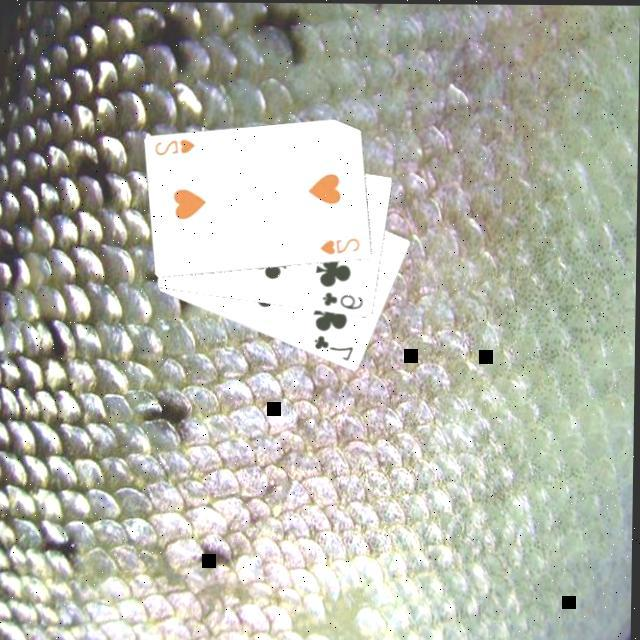2H: (315, 235, 362, 258), (150, 136, 197, 159)
6C: (318, 289, 365, 313)
7C: (309, 332, 355, 364)
